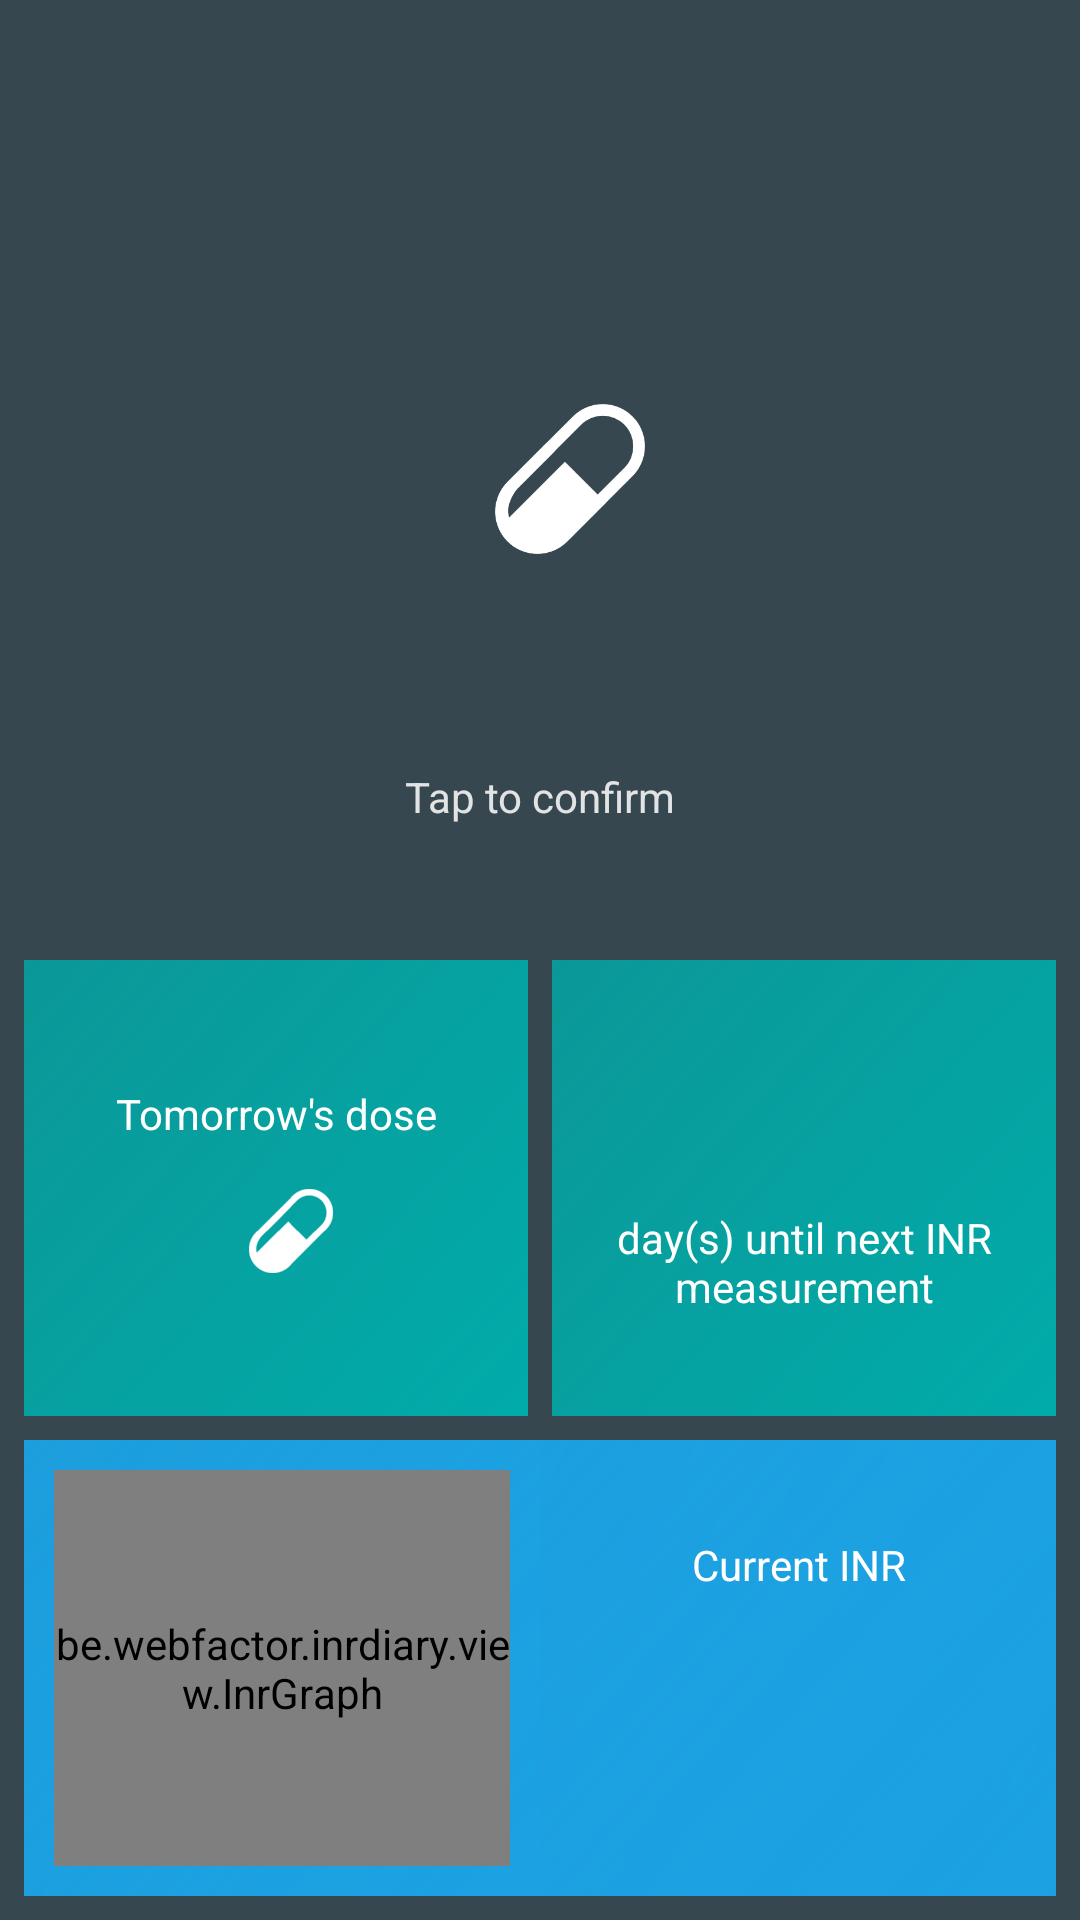

Icons on this 1080px x 1920px Android screen, each with the point to tap as (x=x, y=y):
pill: (x=570, y=479), (x=291, y=1231)
